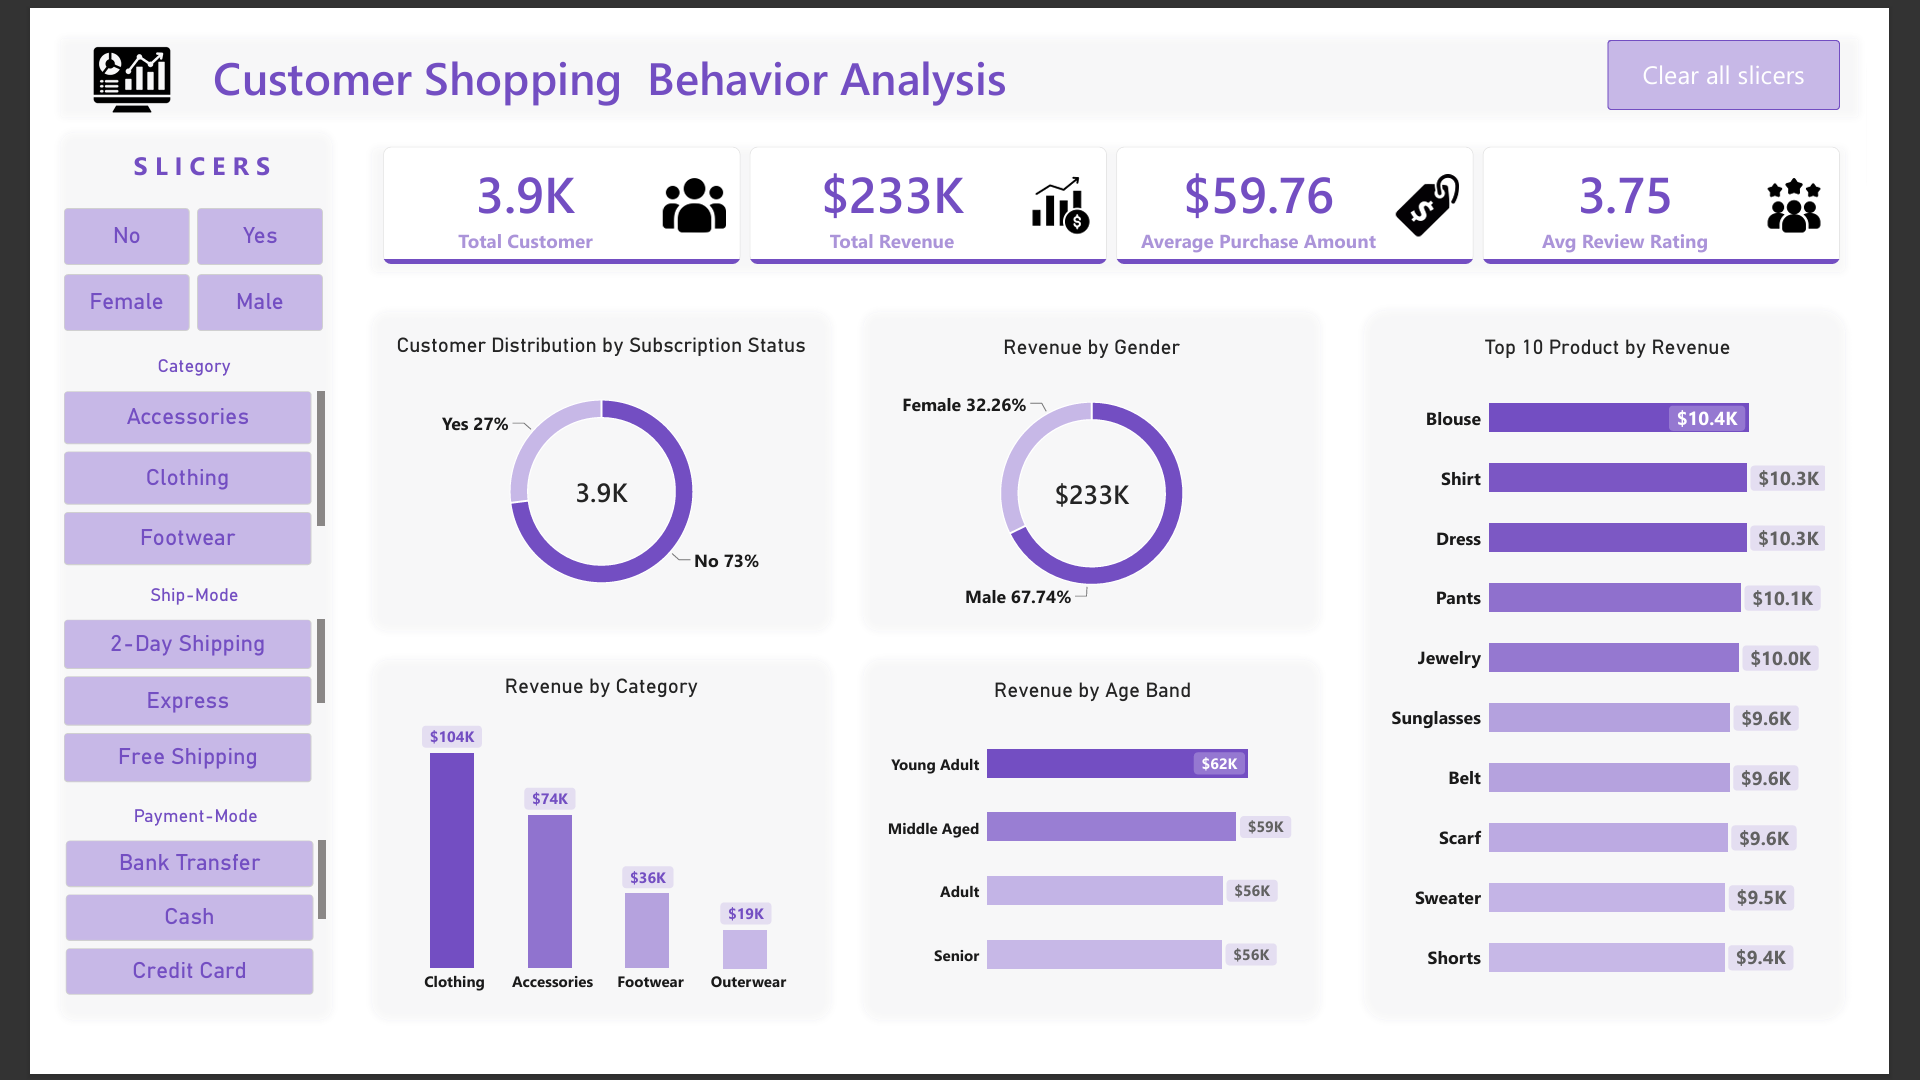

What the dashboard file says about the page in this screenshot:
{"tool":"powerbi","page":{"name":"Customer Shopping Behaviour","canvas":[1920,1080],"ordinal":0},"visuals":[{"type":"shape","box":[330,116,1576,148],"z":0},{"type":"cardVisual","fields":{"Data":["my_matrics.Total Customer","my_matrics.Total Revenue","my_matrics.Average Purchase Amount","my_matrics.Avg Review Rating"]},"box":[350,123.1,1542.3,124.6],"z":1000},{"type":"shape","box":[0,0,1920,100],"z":2000},{"type":"textbox","box":[140,16,900,78],"z":3000},{"type":"image","box":[28,10,112,84],"z":4000},{"type":"shape","box":[330,290,502,354],"z":5000},{"type":"shape","box":[330,658,502,398],"z":6000},{"type":"shape","box":[850,290,500,354],"z":7000},{"type":"shape","box":[850,658,500,398],"z":8000},{"type":"shape","box":[1380,288,526,768],"z":9000},{"type":"shape","box":[0,100,304,956],"z":10000},{"type":"clusteredColumnChart","title":"Revenue by Category","fields":{"Category":["public customer.category"],"Y":["my_matrics.Total Revenue"]},"box":[342,668,478,372],"z":11000},{"type":"donutChart","title":"Customer Distribution  by Subscription Status","fields":{"Category":["public customer.subscription_status"],"Y":["my_matrics.Total Customer"]},"box":[342,306,478,326],"z":12000},{"type":"clusteredBarChart","title":"Revenue by Age Band","fields":{"Category":["public customer.age_group"],"Y":["my_matrics.Total Revenue"]},"box":[866,672,470,368],"z":13000},{"type":"donutChart","title":" Revenue by Gender","fields":{"Category":["public customer.gender"],"Y":["my_matrics.Total Revenue"]},"box":[866,308,468,326],"z":14000},{"type":"clusteredBarChart","title":"Top 10 Product by Revenue ","fields":{"Category":["public customer.item_purchased"],"Y":["my_matrics.Total Revenue"]},"box":[1400,308,492,732],"z":15000},{"type":"textbox","box":[28,124,260,62],"z":16000},{"type":"advancedSlicerVisual","fields":{"Values":["public customer.subscription_status"]},"box":[12.1,187.9,275.7,60],"z":17000},{"type":"advancedSlicerVisual","title":"Category","fields":{"Values":["public customer.category"]},"box":[12.1,344.3,275.7,225.7],"z":19000},{"type":"advancedSlicerVisual","title":"Ship-Mode","fields":{"Values":["public customer.shipping_type"]},"box":[12.1,585.7,275.7,214.3],"z":20000},{"type":"advancedSlicerVisual","title":"Payment-Mode","fields":{"Values":["public customer.payment_method"]},"box":[14,820,275,205],"z":21000},{"type":"actionButton","box":[1646,10,246,74],"z":22000},{"type":"advancedSlicerVisual","fields":{"Values":["public customer.gender"]},"box":[12,258,275.7,60],"z":22001}]}

Visuals, with their boxes in screenshot pixels (x1, y1, x2, y2), scaled from the page's 1920x1080 canvas onto the 1920x1080 screenshot:
shape: <box>330,116,1906,264</box>
cardVisual - my_matrics.Total Customer x my_matrics.Total Revenue: <box>350,123,1892,248</box>
shape: <box>0,0,1919,100</box>
textbox: <box>140,16,1040,94</box>
image: <box>28,10,140,94</box>
shape: <box>330,290,832,644</box>
shape: <box>330,658,832,1056</box>
shape: <box>850,290,1350,644</box>
shape: <box>850,658,1350,1056</box>
shape: <box>1380,288,1906,1056</box>
shape: <box>0,100,304,1056</box>
"Revenue by Category" clusteredColumnChart: <box>342,668,820,1040</box>
"Customer Distribution  by Subscription Status" donutChart: <box>342,306,820,632</box>
"Revenue by Age Band" clusteredBarChart: <box>866,672,1336,1040</box>
" Revenue by Gender" donutChart: <box>866,308,1334,634</box>
"Top 10 Product by Revenue " clusteredBarChart: <box>1400,308,1892,1040</box>
textbox: <box>28,124,288,186</box>
advancedSlicerVisual - public customer.subscription_status: <box>12,188,288,248</box>
"Category" advancedSlicerVisual: <box>12,344,288,570</box>
"Ship-Mode" advancedSlicerVisual: <box>12,586,288,800</box>
"Payment-Mode" advancedSlicerVisual: <box>14,820,289,1025</box>
actionButton: <box>1646,10,1892,84</box>
advancedSlicerVisual - public customer.gender: <box>12,258,288,318</box>
